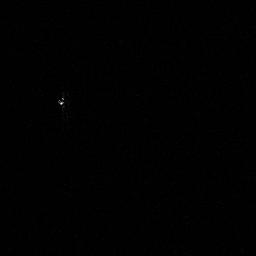ship: (56, 91, 66, 116)
